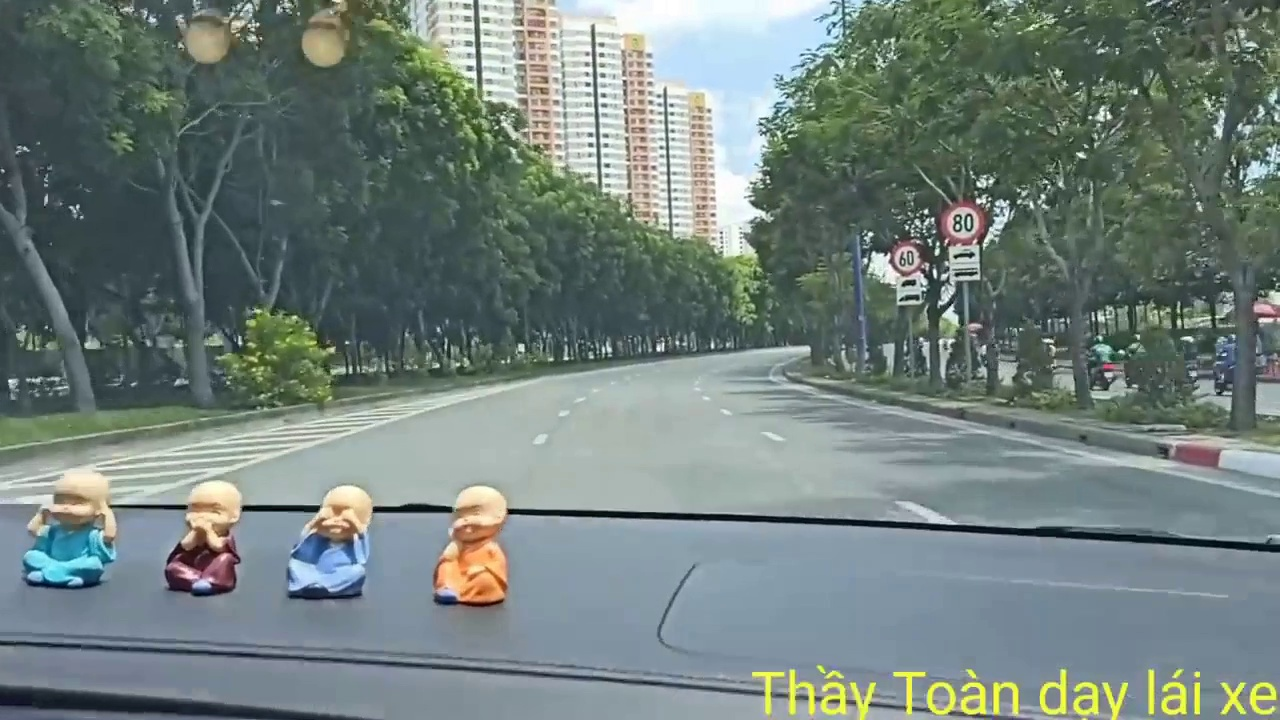Giới hạn tốc độ: 60: (891, 238, 924, 313)
Giới hạn tốc độ: 80: (926, 192, 987, 279)
